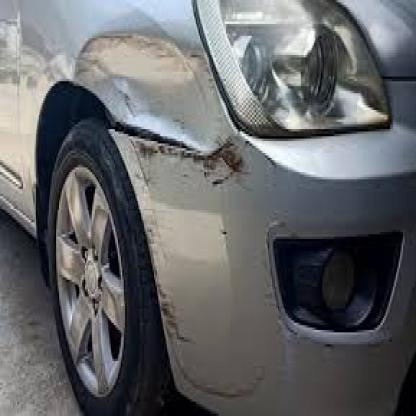dent: (82, 21, 207, 130)
